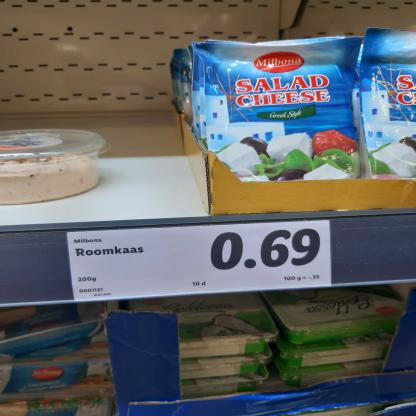prtg: (68, 221, 332, 302)
